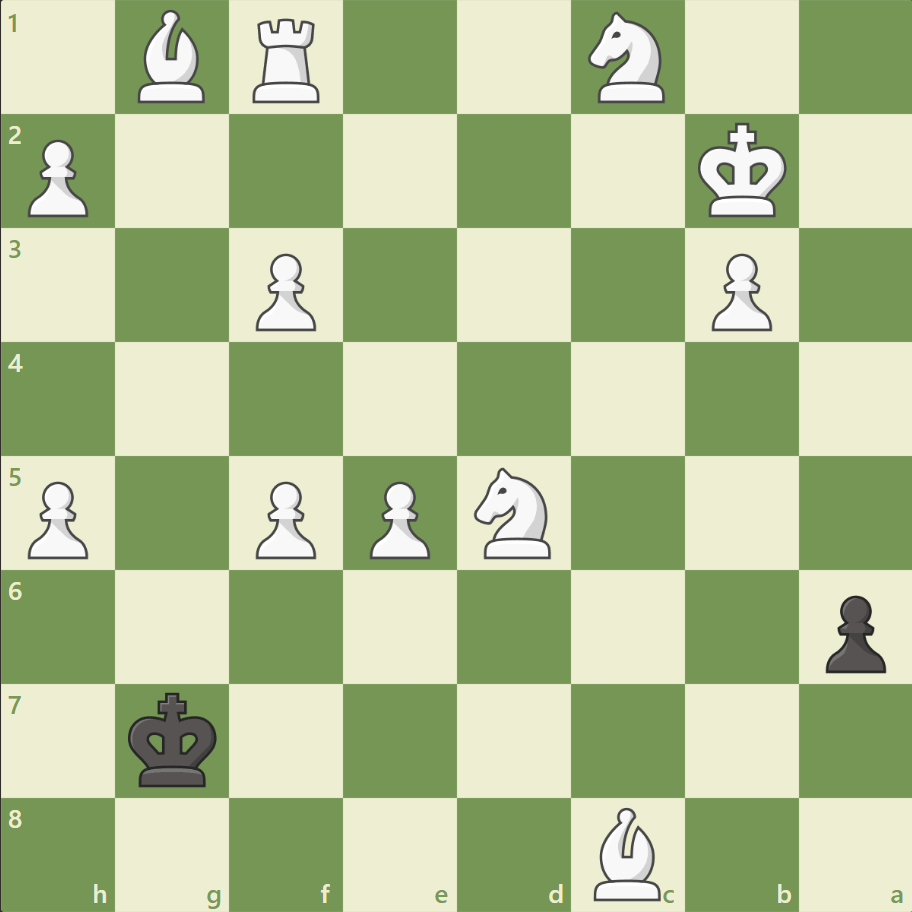B: (585, 801, 669, 904), (131, 6, 215, 109)
K: (692, 117, 792, 225)
N: (465, 461, 562, 564), (579, 7, 676, 110)
P: (247, 473, 322, 564), (20, 473, 95, 564), (701, 246, 776, 337), (247, 246, 322, 337), (20, 132, 95, 223), (361, 473, 435, 564)
R: (246, 12, 329, 109)
k: (124, 685, 224, 793)
p: (815, 586, 889, 677)
